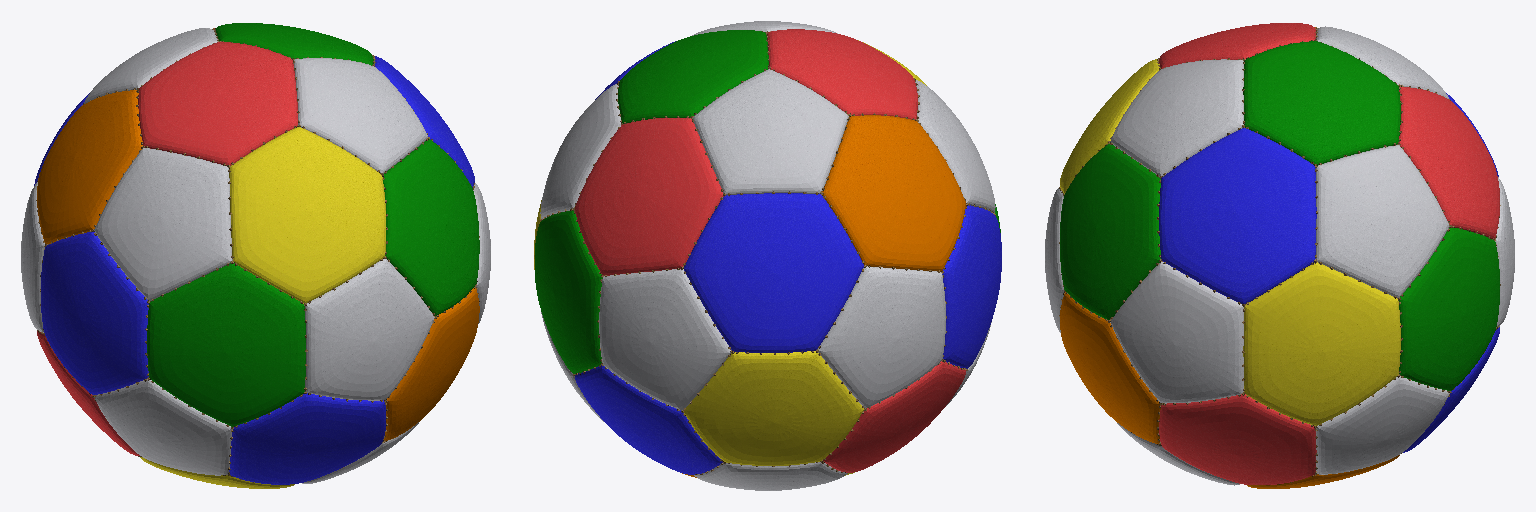
3 views of the same model, side by side, from view 1: azimuth 30°, elevation 25°; view 2: azimuth 150°, elevation 25°; view 3: azimuth 270°, elevation 25° (orthographic).
Parts seen in each view (by area): view 1: ball; view 2: ball; view 3: ball.
Part boxes in pixels (x1,y1,x2,y2): ball: (21,23,490,488); ball: (534,21,1001,490); ball: (1045,23,1514,488).
Bounding box in the file's own units: 21.7 × 21.83 × 21.98.
Materials: 7 (7 with a texture image).